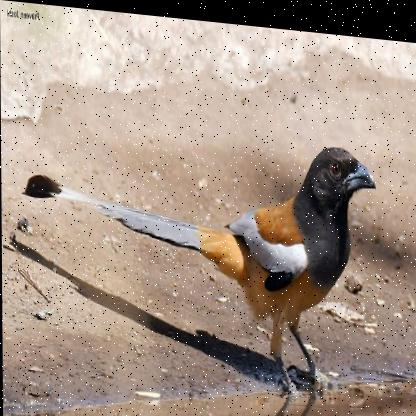Burung: (23, 114, 377, 399)
